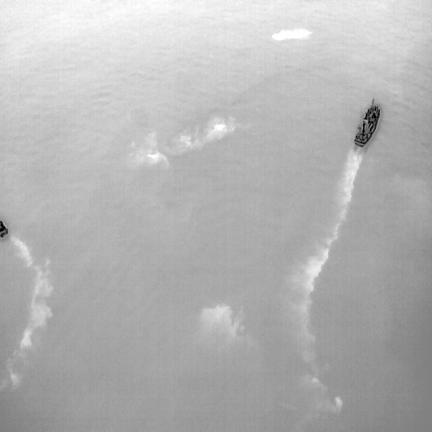flukeprints: (272, 29, 311, 40)
